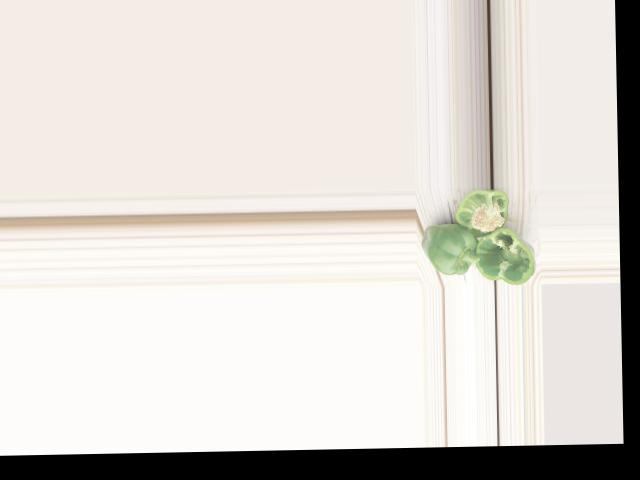bell_pepper: (451, 188, 520, 236)
